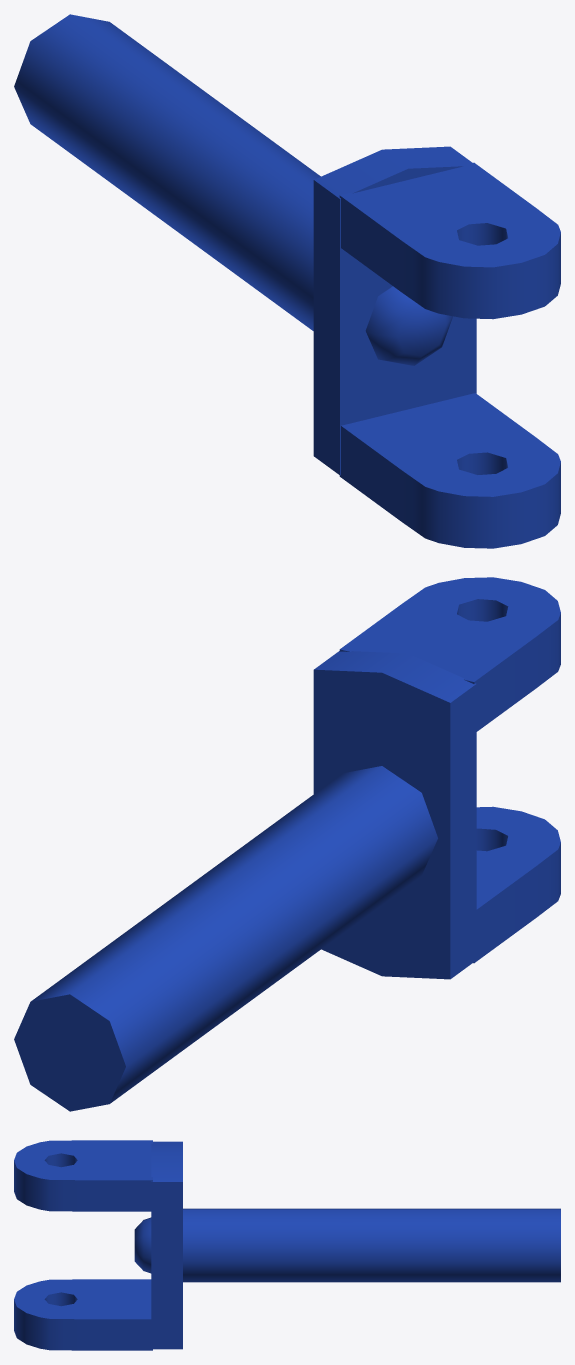
File: newton_gripper_shaft.visual.glb
3 renders of one model, top to bottom at view 1: azimuth 30°, elevation 25°; view 2: azimuth 150°, elevation 25°; view 3: azimuth 270°, elevation 25°, orthographic. The views are drawn at different scales.
Visible parts, largest first — view 1: Cylinder001.001; view 2: Cylinder001.001; view 3: Cylinder001.001.
Part boxes in pixels (x1,y1,x2,y2): Cylinder001.001: (14,14,560,548); Cylinder001.001: (14,577,560,1111); Cylinder001.001: (14,1140,560,1350).
Size of the model in its own units: 0.0122 by 0.0259 by 0.0697.
